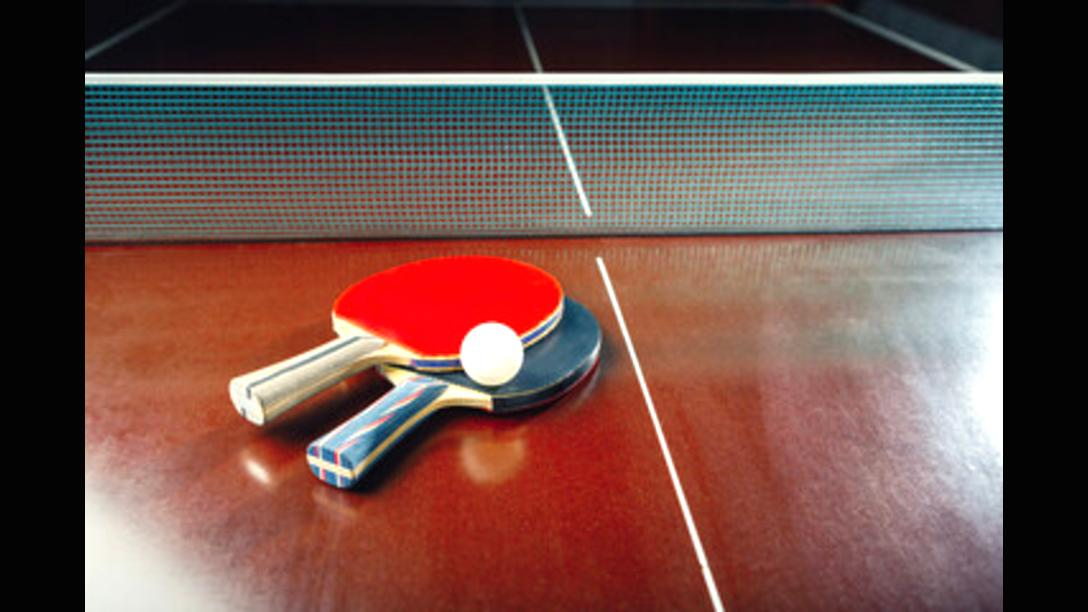Table-Tennis-Ball: (462, 324, 522, 385)
